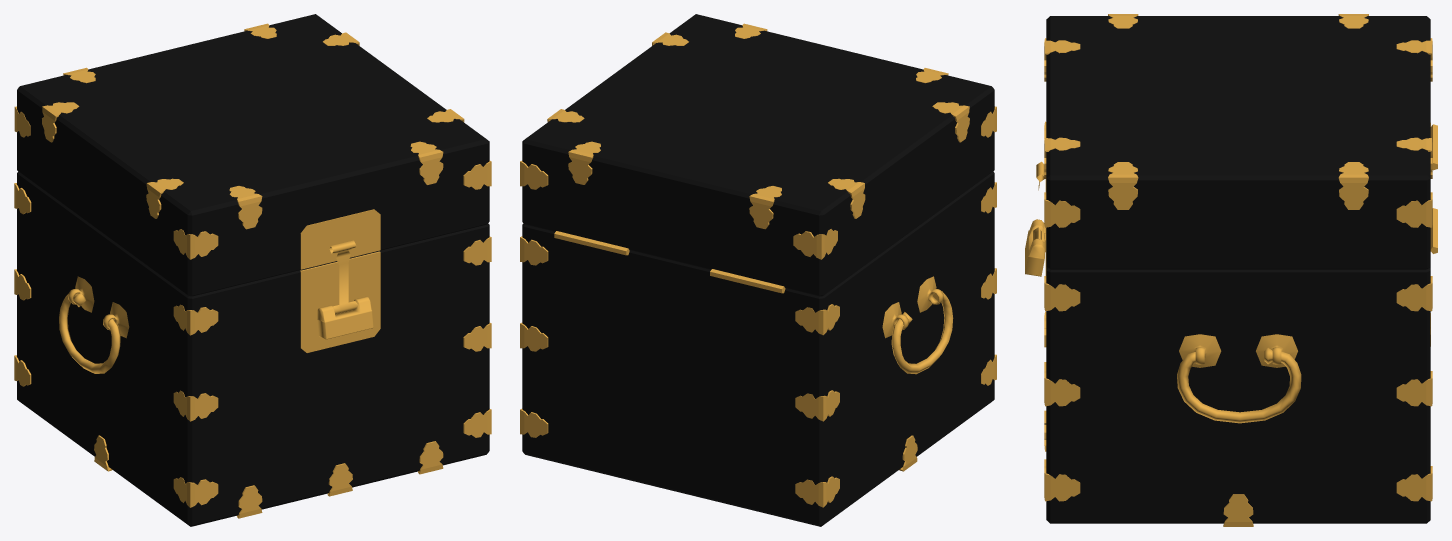
3 renders of one model, left to right at view 1: azimuth 30°, elevation 25°; view 2: azimuth 150°, elevation 25°; view 3: azimuth 270°, elevation 25°, orthographic. The views are drawn at different scales.
Visible parts, largest first — view 1: Box, Cube.211, Plane.230, Plane.231, Cube.212, BezierCurve, Cube.213, Plane.200, Plane.217, Plane.202, Plane.201, Plane.214 (+10 smaller); view 2: Box, Cube.211, BezierCurve, Plane.210, Plane.209, Plane.224, Plane.208, Plane.221, Plane.220, Plane.215, Plane.219, Cylinder.063 (+6 smaller); view 3: Cube.211, Box, BezierCurve.002, Plane.222, Plane.223, Plane.228, Cube.212, Plane.229, Plane.204, Plane.205, Plane.203, Plane.216 (+9 smaller).
Boxes of the visible parts, <box> form: Box: <box>17,171,489,526</box>; Cube.211: <box>17,14,489,296</box>; Plane.230: <box>300,251,380,352</box>; Plane.231: <box>300,209,380,269</box>; Cube.212: <box>317,296,373,339</box>; BezierCurve: <box>59,293,120,373</box>; Cube.213: <box>329,240,357,314</box>; Plane.200: <box>173,477,218,507</box>; Plane.217: <box>173,229,218,259</box>; Plane.202: <box>173,390,218,421</box>; Plane.201: <box>173,304,218,335</box>; Plane.214: <box>229,186,262,229</box>; Box: <box>522,171,994,526</box>; Cube.211: <box>522,14,994,296</box>; BezierCurve: <box>891,291,953,374</box>; Plane.210: <box>795,390,839,421</box>; Plane.209: <box>795,304,839,335</box>; Plane.224: <box>793,229,837,259</box>; Plane.208: <box>795,476,839,507</box>; Plane.221: <box>568,141,600,184</box>; Plane.220: <box>749,186,781,229</box>; Plane.215: <box>932,102,969,142</box>; Plane.219: <box>828,178,865,218</box>; Cylinder.063: <box>710,269,785,293</box>; Cube.211: <box>1046,16,1430,269</box>; Box: <box>1046,267,1430,523</box>; BezierCurve.002: <box>1177,348,1301,423</box>; Plane.222: <box>1338,162,1368,209</box>; Plane.223: <box>1108,162,1138,209</box>; Plane.228: <box>1179,334,1221,367</box>; Cube.212: <box>1025,219,1044,276</box>; Plane.229: <box>1256,334,1297,367</box>; Plane.204: <box>1044,466,1080,501</box>; Plane.205: <box>1044,276,1080,311</box>; Plane.203: <box>1044,371,1080,406</box>; Plane.216: <box>1044,192,1080,227</box>.
Size of the model in its own units: 230 by 201 by 215.
